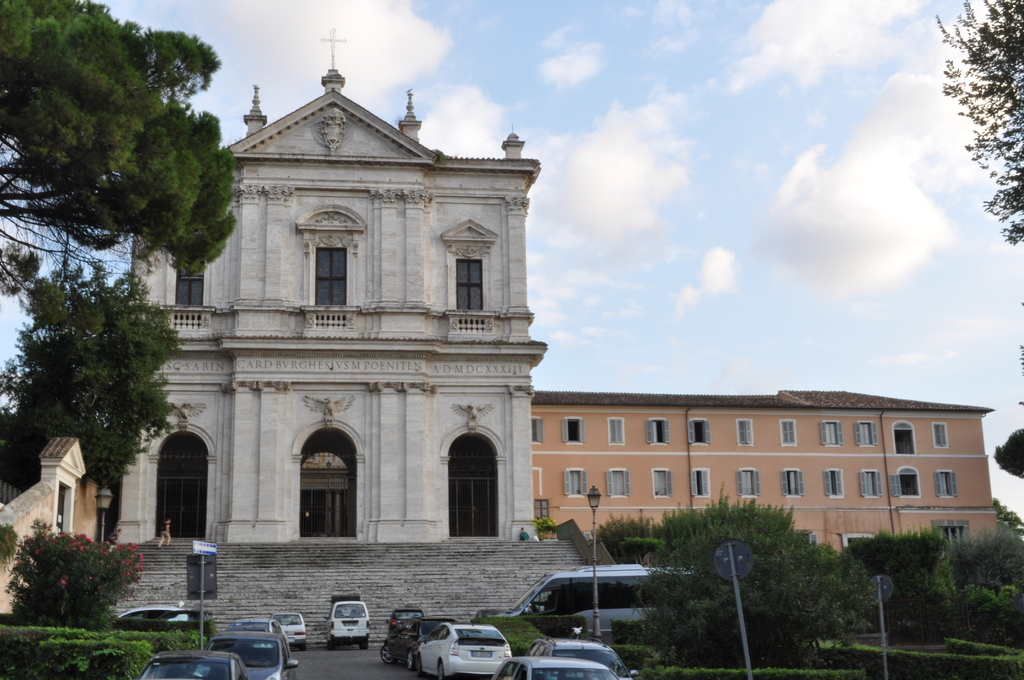Car: (377, 604, 637, 679), (116, 604, 309, 679), (321, 601, 372, 649)
